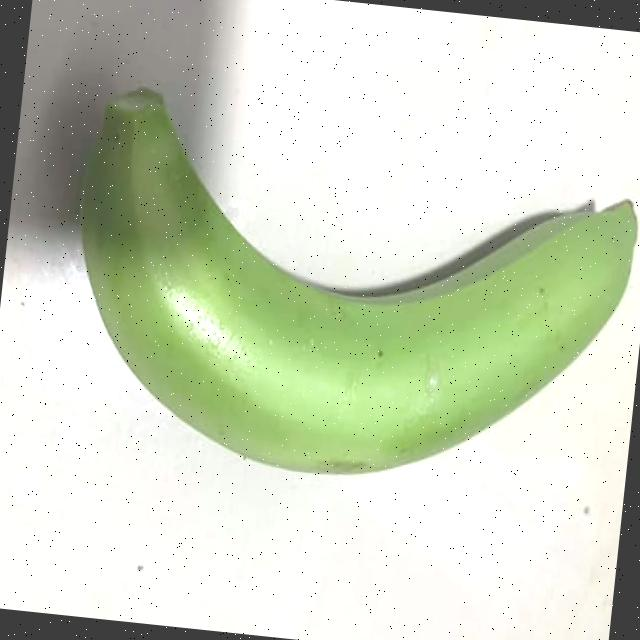Raw: (34, 39, 640, 532)
